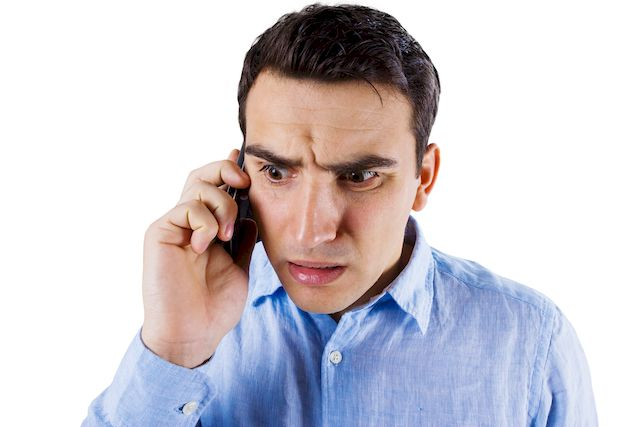phone: (212, 157, 261, 254)
talk: (141, 121, 412, 344)
